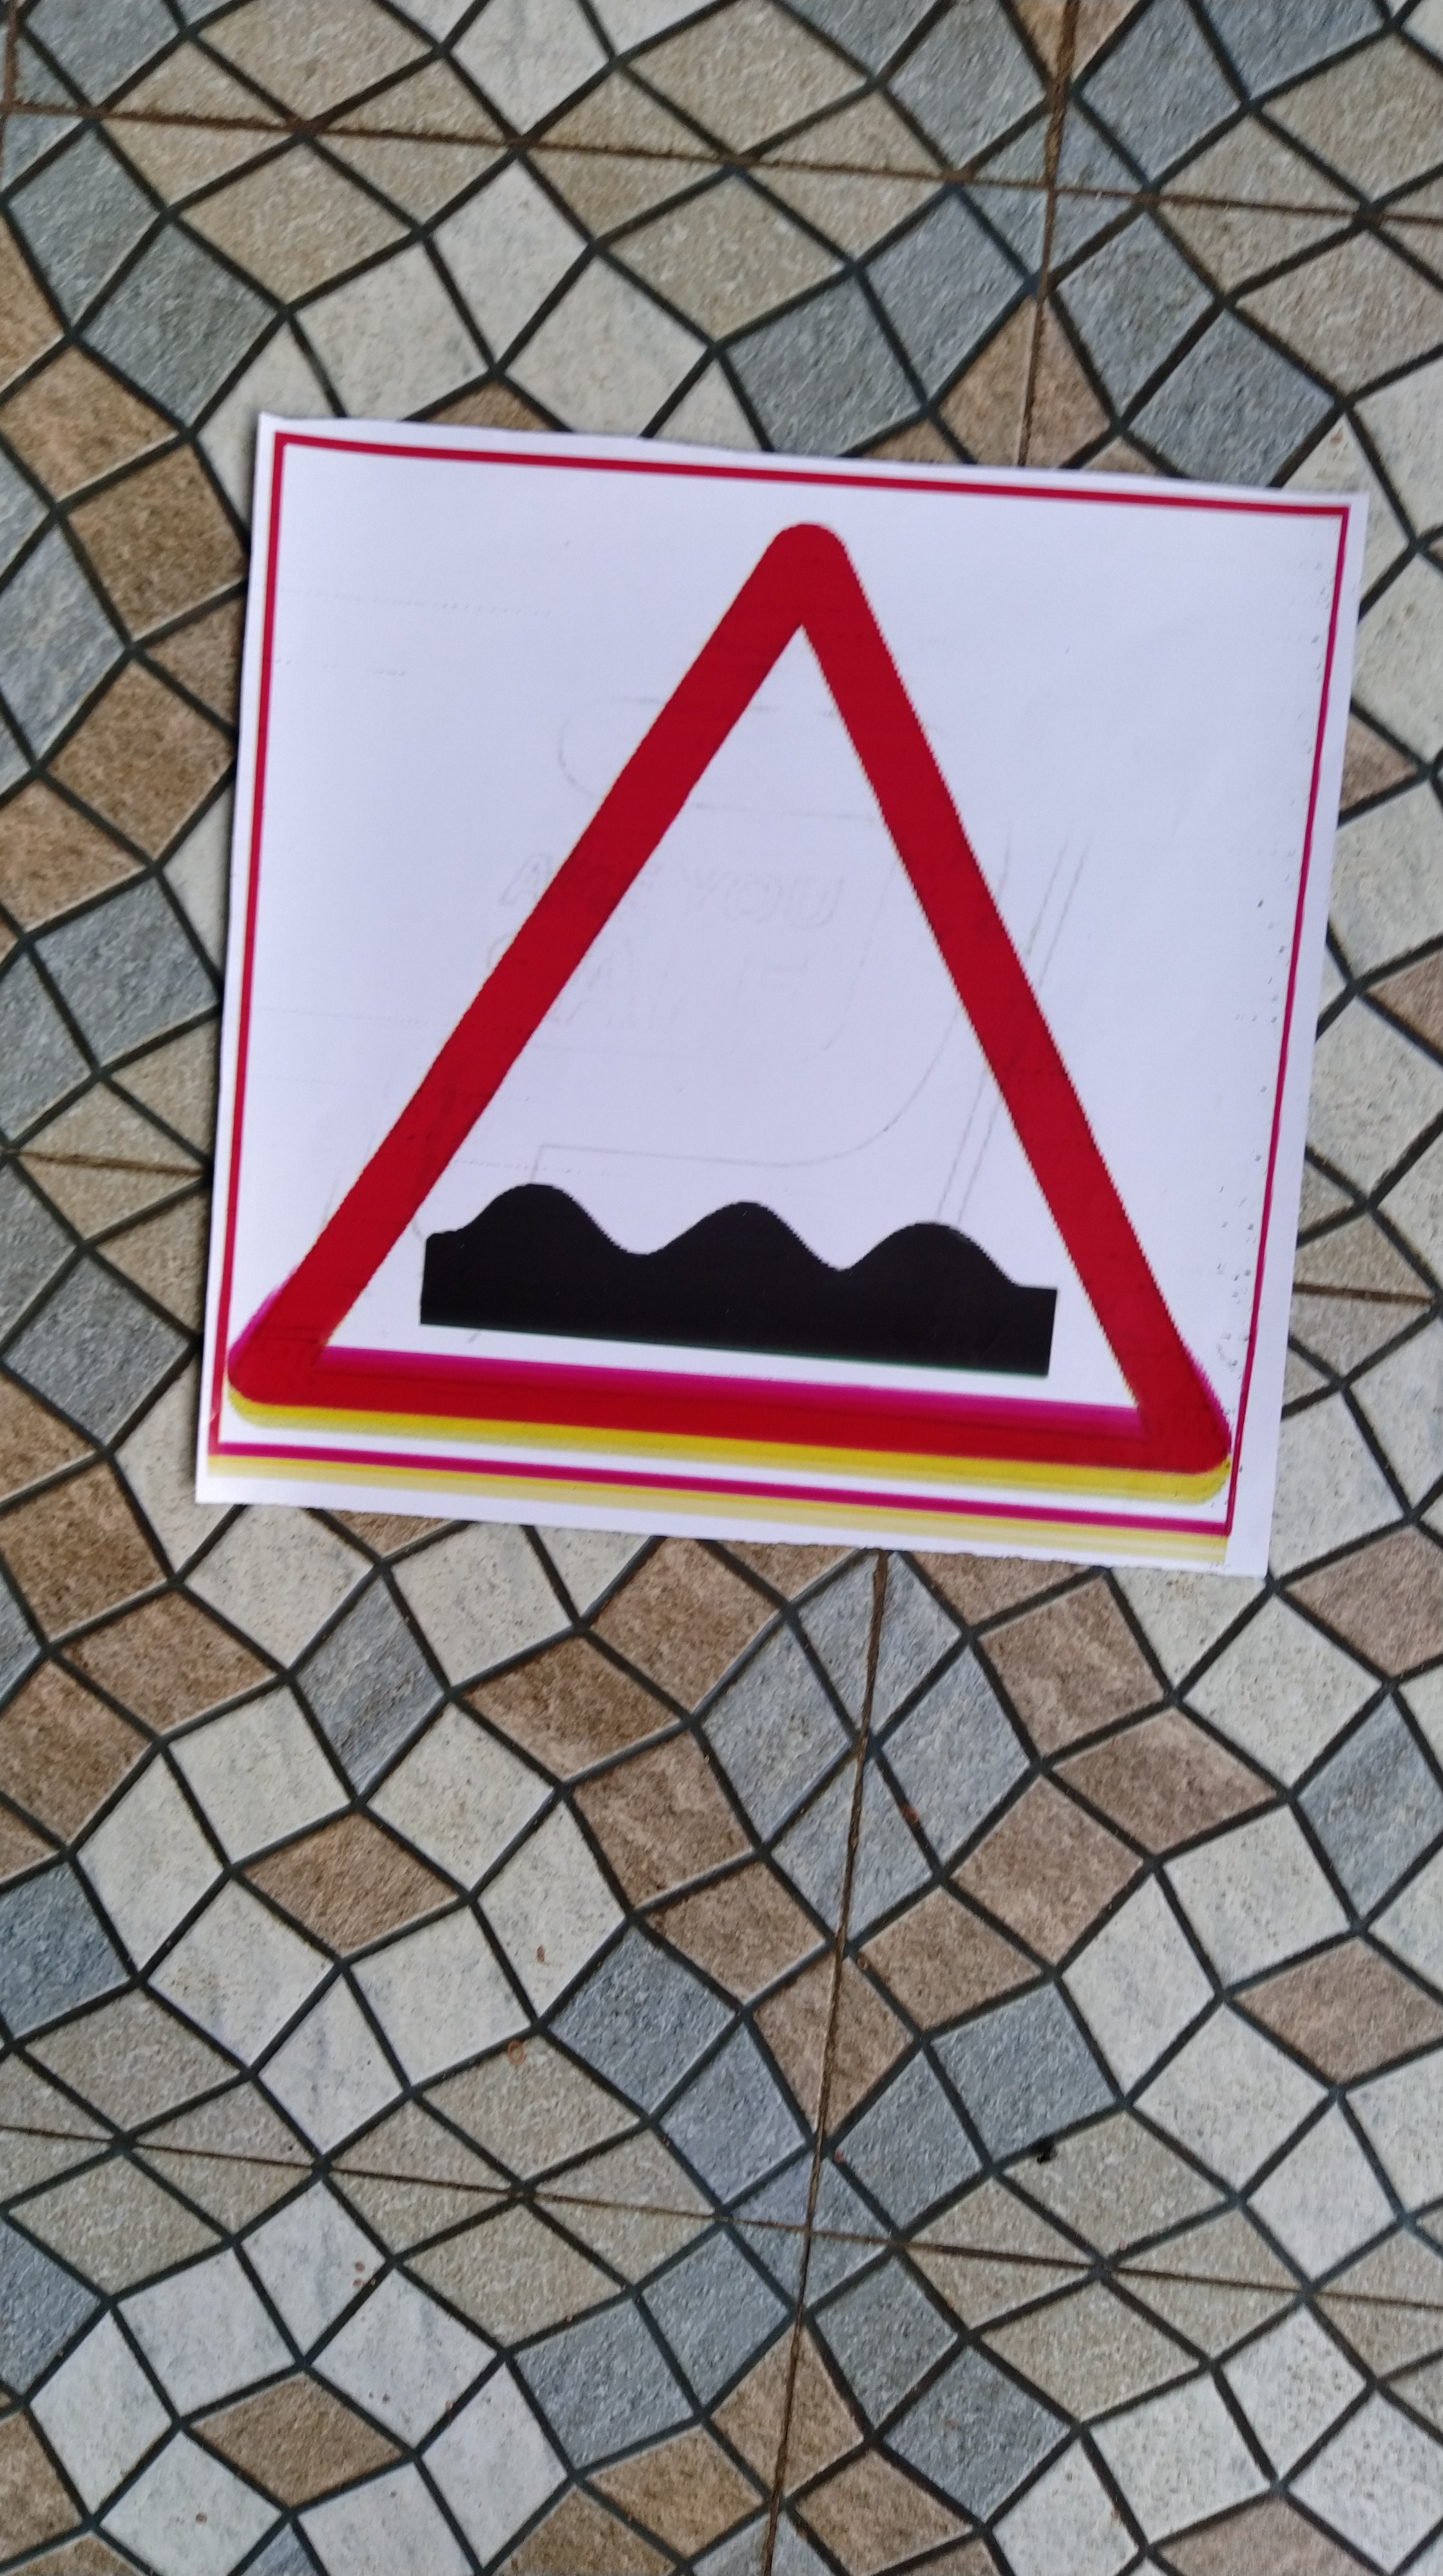speed breaker: (264, 441, 1275, 1539)
